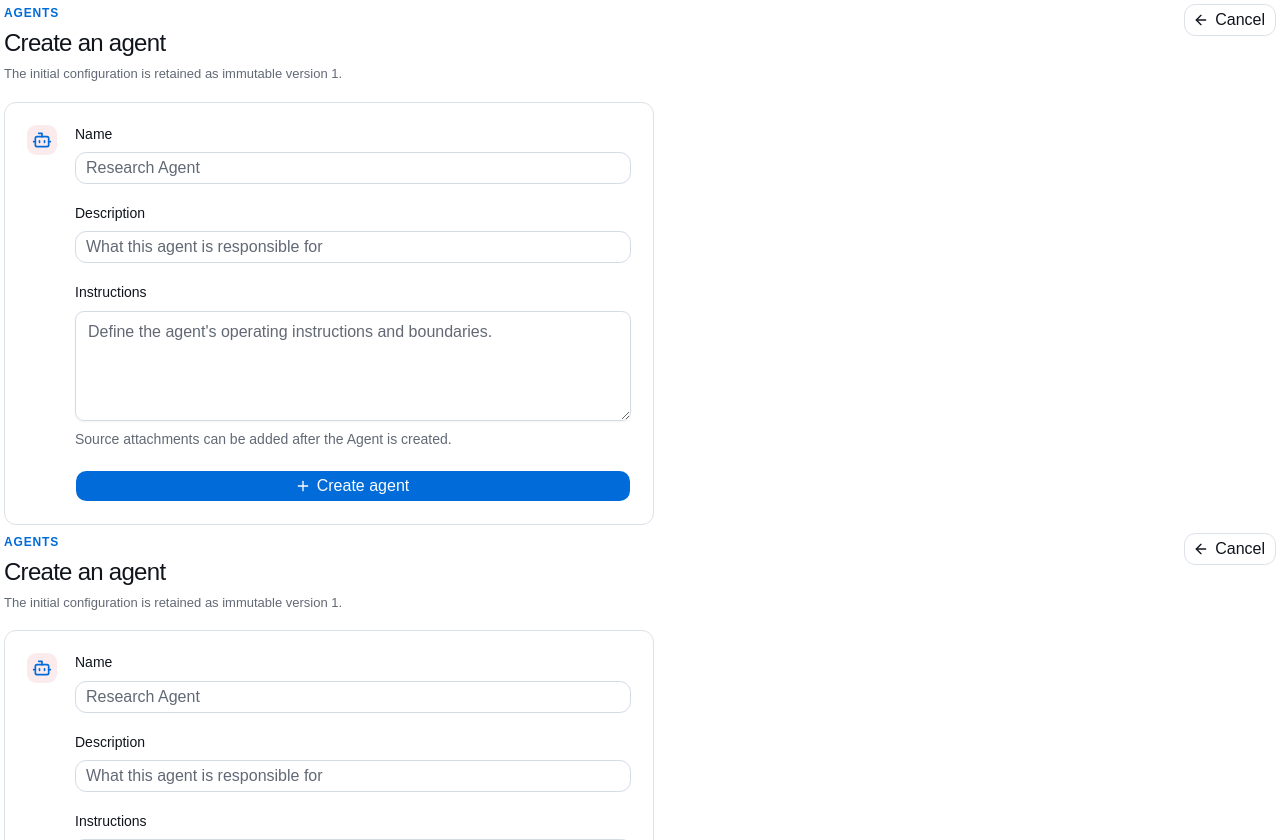
it: publishes a late old-surface draft event to the currently mounted Agent form
Type "Late Agent Draft" into the field labelled "Name". click: (353, 168)
box: top-left (75, 152), bottom-right (631, 184)
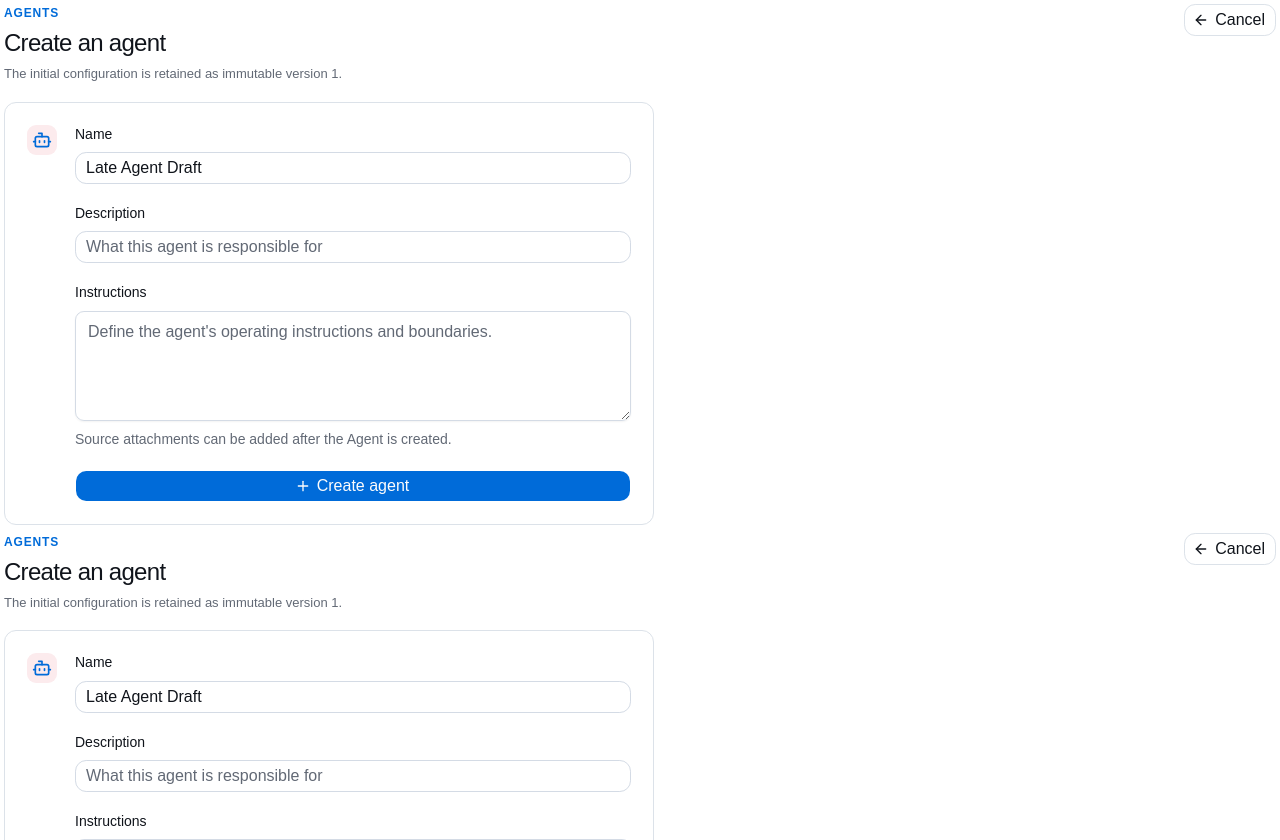
Expected: the field named "name" holds "Late Agent Draft", top-left (75, 681), bottom-right (631, 713)
